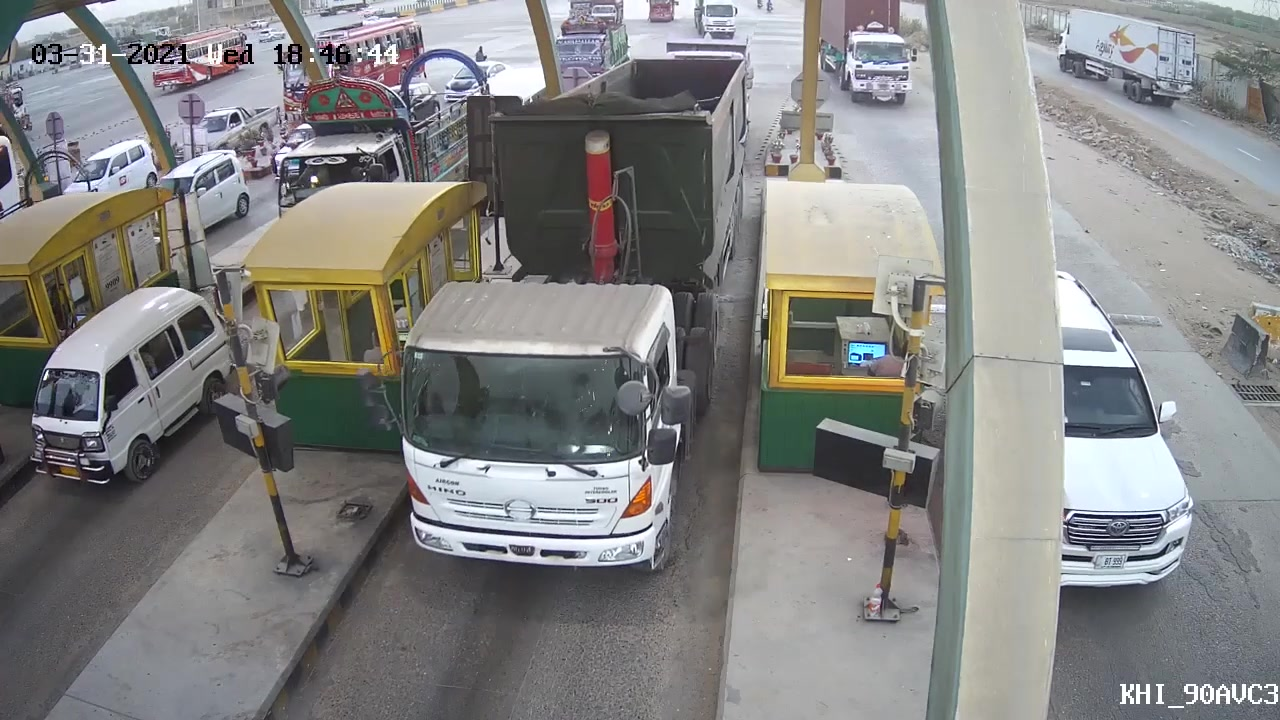F5: (360, 54, 754, 583)
